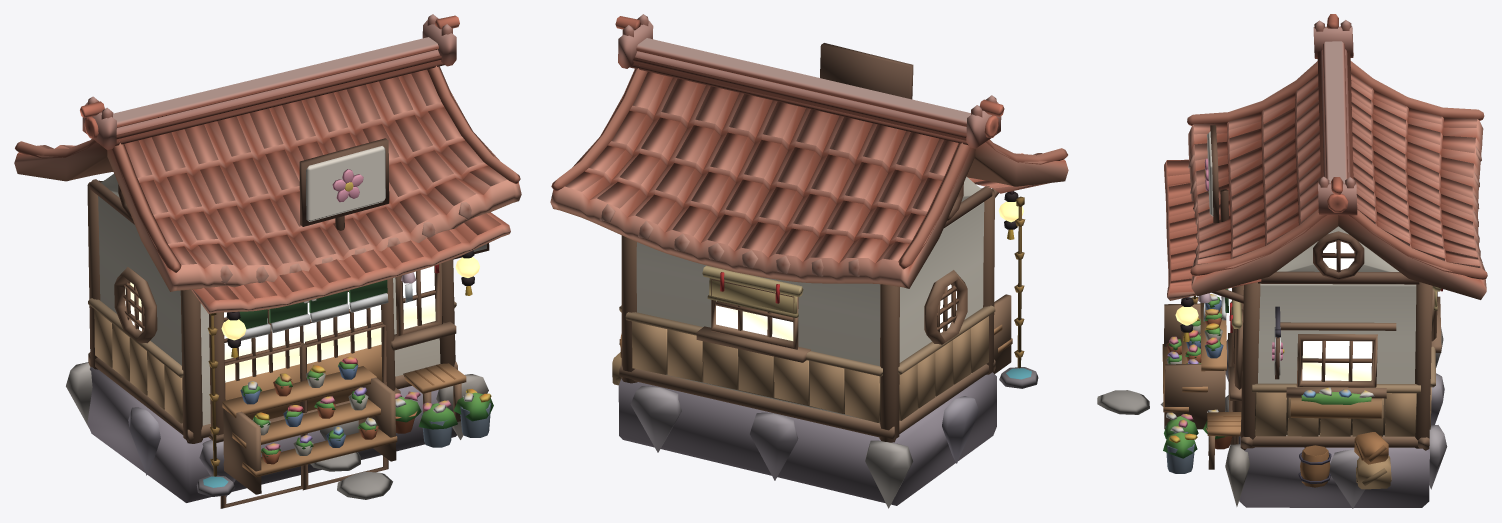
Rendered from shop-2-v6.glb.
3 renders of one model, left to right at view 1: azimuth 30°, elevation 25°; view 2: azimuth 150°, elevation 25°; view 3: azimuth 270°, elevation 25°, orthographic. The views are drawn at different scales.
Visible parts, largest first — view 1: shop-2-v6, window_glow; view 2: shop-2-v6, window_glow; view 3: shop-2-v6, window_glow.
Boxes of the visible parts, box(x1,y1,x2,y2) form: shop-2-v6: box(14, 14, 521, 508); window_glow: box(125, 257, 479, 382); shop-2-v6: box(550, 14, 1068, 508); window_glow: box(716, 201, 1023, 340); shop-2-v6: box(1097, 14, 1487, 508); window_glow: box(1175, 241, 1372, 380).
Bounding box in the file's own units: 3.47 × 3.39 × 3.35.
